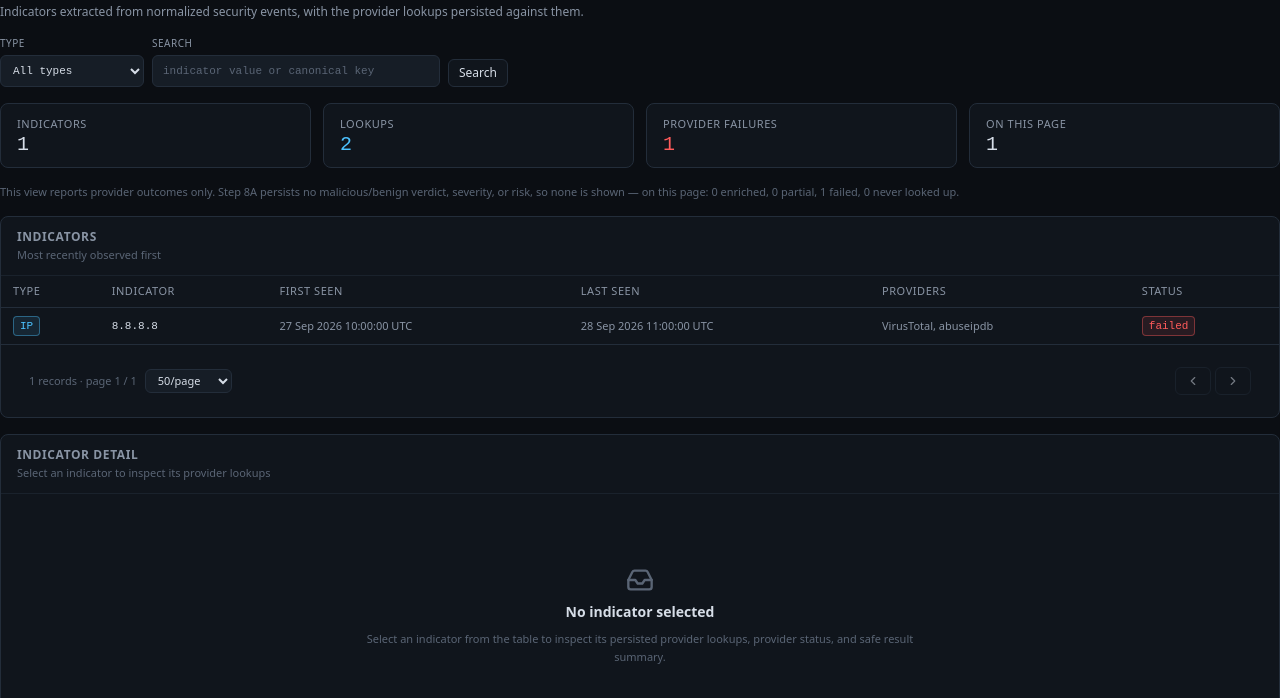
ThreatIntelPage — Step 8A read surface › distinguishes a rate-limited provider from a failed one
Click the row with test id "ti-indicator-row" at (640, 326), box [1, 308, 1279, 344]
(page scrolled)
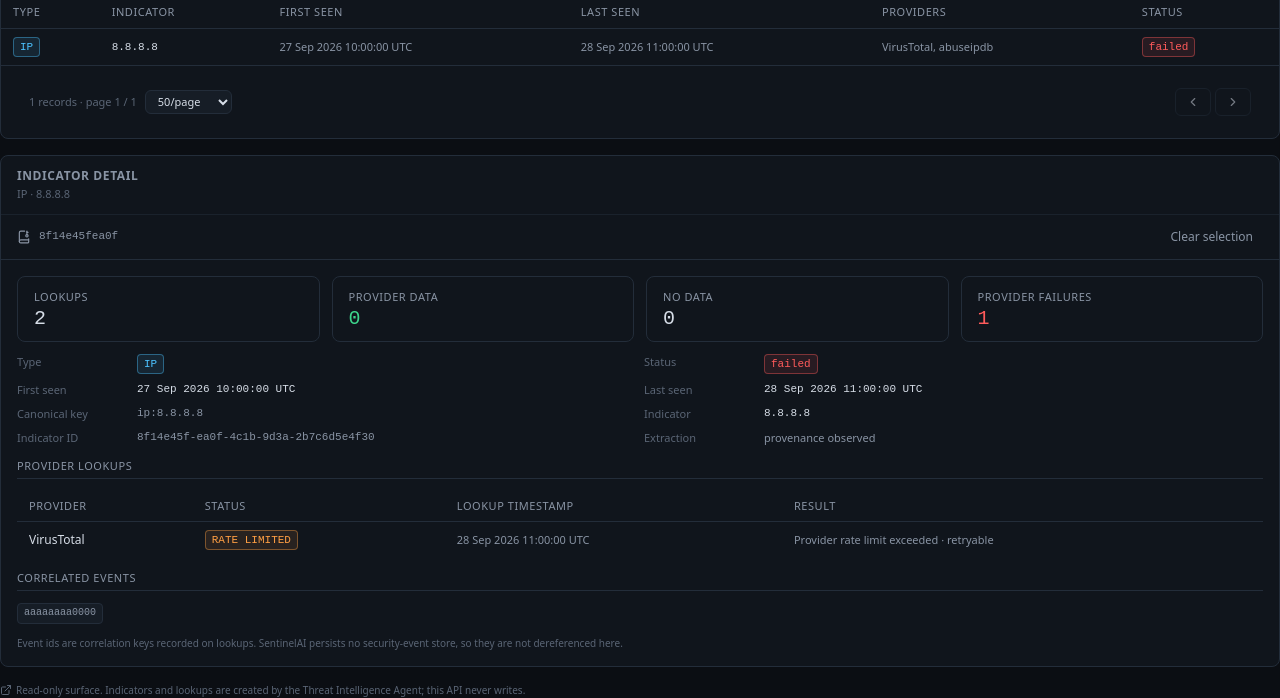
expect the text with test id "ti-lookup-status" reads "RATE LIMITED": met, box [212, 534, 291, 546]
expect the element with test id "ti-detail-panel" shows "retryable": met, box [938, 532, 994, 547]
